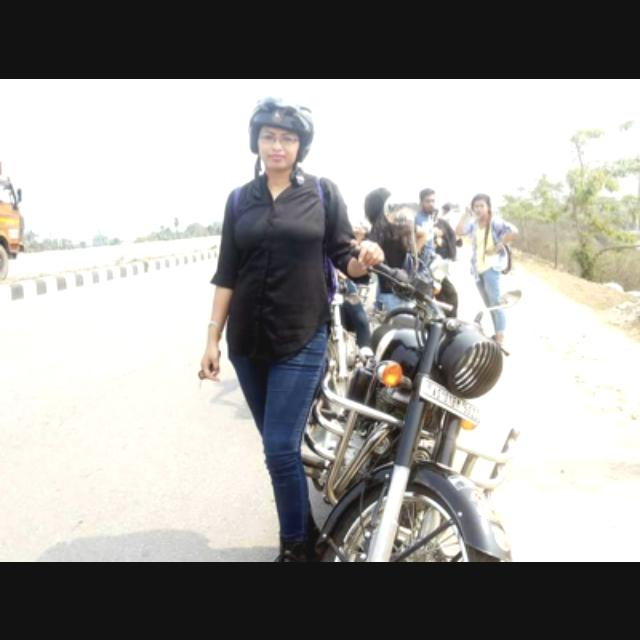With Helmet: (243, 90, 320, 176)
